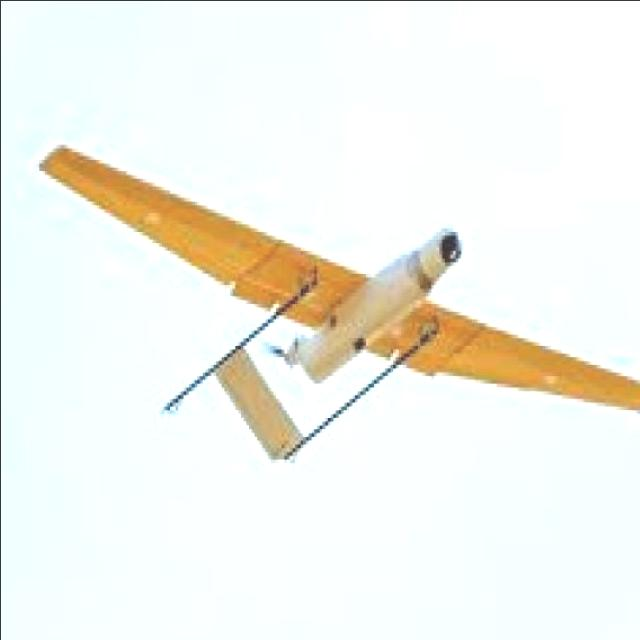plane: (35, 138, 640, 464)
